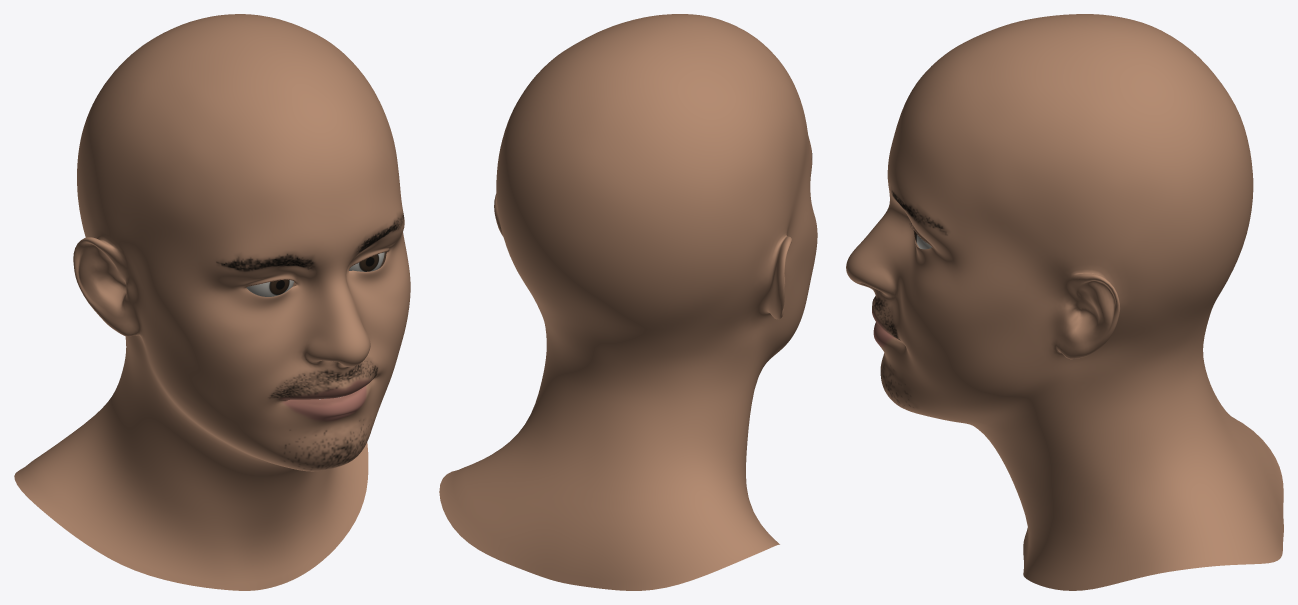
File: head-groomed-raw.glb
3 renders of one model, left to right at view 1: azimuth 30°, elevation 25°; view 2: azimuth 150°, elevation 25°; view 3: azimuth 270°, elevation 25°, orthographic. The views are drawn at different scales.
Visible parts, largest first — view 1: Ubaid_FaceBuilder_Head_Study, Eye.R; view 2: Ubaid_FaceBuilder_Head_Study; view 3: Ubaid_FaceBuilder_Head_Study.
Part boxes in pixels (x1=…): Ubaid_FaceBuilder_Head_Study: x1=14, y1=14, x2=410, y2=590; Eye.R: x1=246, y1=280, x2=293, y2=296; Ubaid_FaceBuilder_Head_Study: x1=439, y1=14, x2=817, y2=590; Ubaid_FaceBuilder_Head_Study: x1=846, y1=14, x2=1283, y2=590.
Size of the model in its own units: 0.1915 by 0.2968 by 0.2195.
8 materials, 1 textured.
